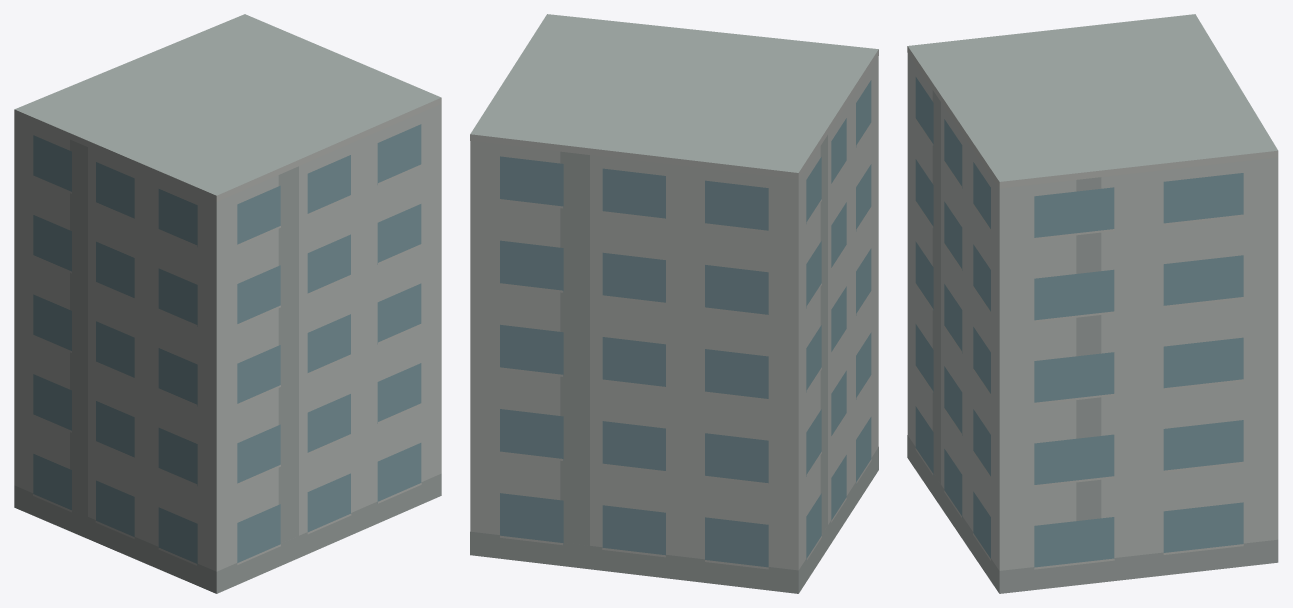
Rendered from survey-upis-32828117.glb.
The picture shows the model from 3 angles, left to right: view 1: azimuth 30°, elevation 25°; view 2: azimuth 150°, elevation 25°; view 3: azimuth 270°, elevation 25°; orthographic projection. The views are drawn at different scales.
Parts seen in each view (by area): view 1: survey-upis-32828117.tmp; view 2: survey-upis-32828117.tmp; view 3: survey-upis-32828117.tmp.
Boxes of the visible parts, box(x1,y1,x2,y2) form: survey-upis-32828117.tmp: box(14, 14, 441, 593); survey-upis-32828117.tmp: box(470, 14, 878, 593); survey-upis-32828117.tmp: box(907, 14, 1278, 593).
Bounding box in the file's own units: 13.34 × 15.25 × 12.45.
